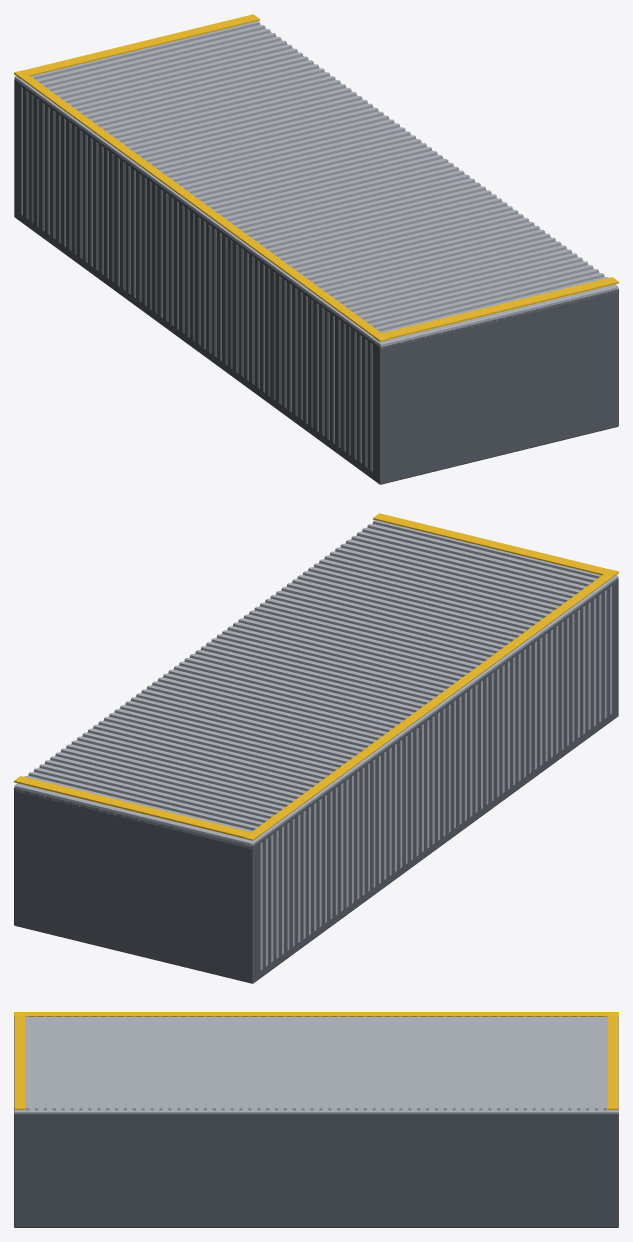
The model's file is SM_MallEscalatorStep.fbx.
3 renders of one model, top to bottom at view 1: azimuth 30°, elevation 25°; view 2: azimuth 150°, elevation 25°; view 3: azimuth 270°, elevation 25°, orthographic. The views are drawn at different scales.
Parts seen in each view (by area): view 1: SM_MallEscalatorStep; view 2: SM_MallEscalatorStep; view 3: SM_MallEscalatorStep.
Boxes of the visible parts, left/top/right/bottom form: SM_MallEscalatorStep: left=14, top=14, right=618, bottom=484; SM_MallEscalatorStep: left=14, top=513, right=618, bottom=983; SM_MallEscalatorStep: left=14, top=1012, right=618, bottom=1227.
Bounding box in the file's own units: 40.05 × 106 × 23.18.
